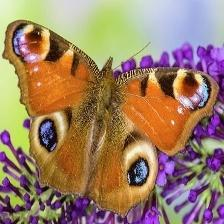butterfly: (3, 20, 220, 216)
